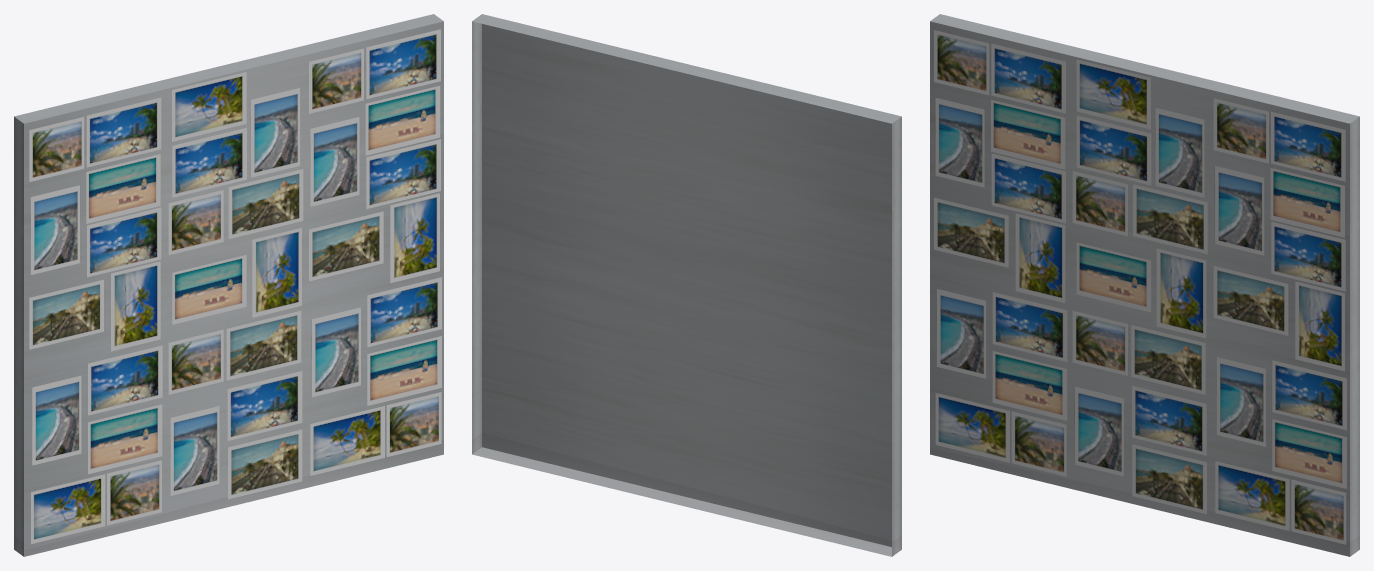
File: Postcard_Rack_03.fbx
3 renders of one model, left to right at view 1: azimuth 30°, elevation 25°; view 2: azimuth 150°, elevation 25°; view 3: azimuth 330°, elevation 25°, orthographic.
Visible parts, largest first — view 1: Postcard_Rack_03; view 2: Postcard_Rack_03; view 3: Postcard_Rack_03.
Part boxes in pixels (left/top/right/bottom): Postcard_Rack_03: left=14, top=14, right=443, bottom=556; Postcard_Rack_03: left=472, top=14, right=901, bottom=556; Postcard_Rack_03: left=930, top=14, right=1359, bottom=556.
Bounding box in the file's own units: 0.3265 × 0.3219 × 0.0147.
